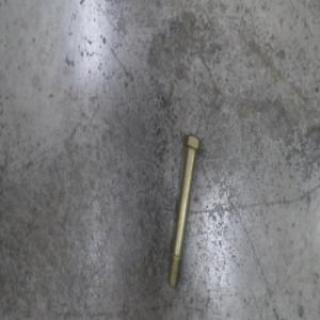Bolttrack_idkeyframe: (166, 132, 200, 288)
